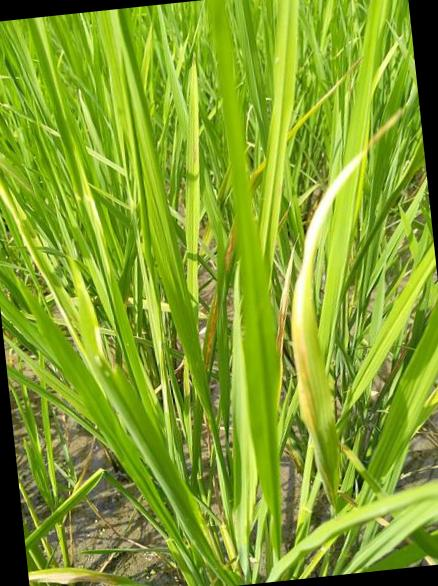Leaf Blight: (291, 110, 404, 488), (277, 246, 294, 365), (204, 284, 219, 375), (223, 223, 236, 272)
